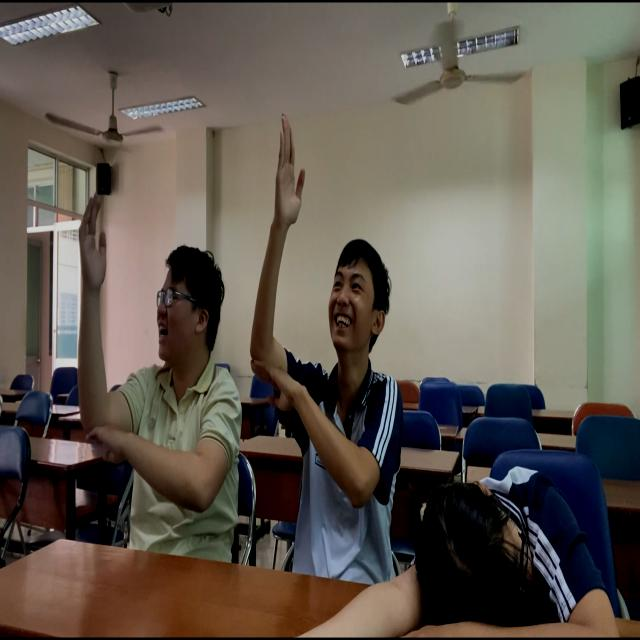raise_hand: (248, 117, 408, 570), (73, 202, 238, 545)
sleep: (402, 459, 640, 640)
